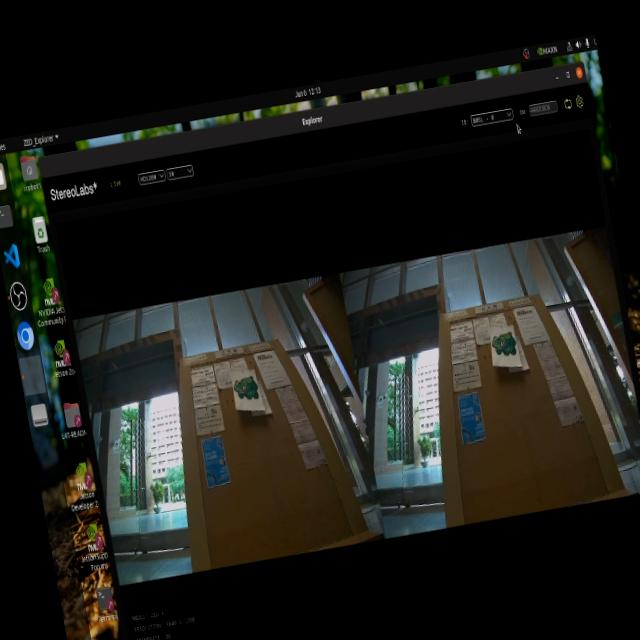green: (488, 330, 528, 370), (232, 366, 269, 408)
